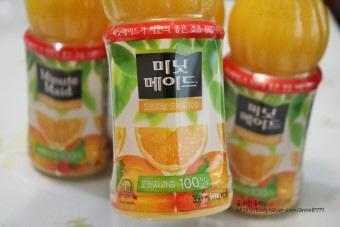minutemaid_org_orange: (105, 0, 236, 226), (232, 0, 330, 221), (23, 0, 110, 180)
